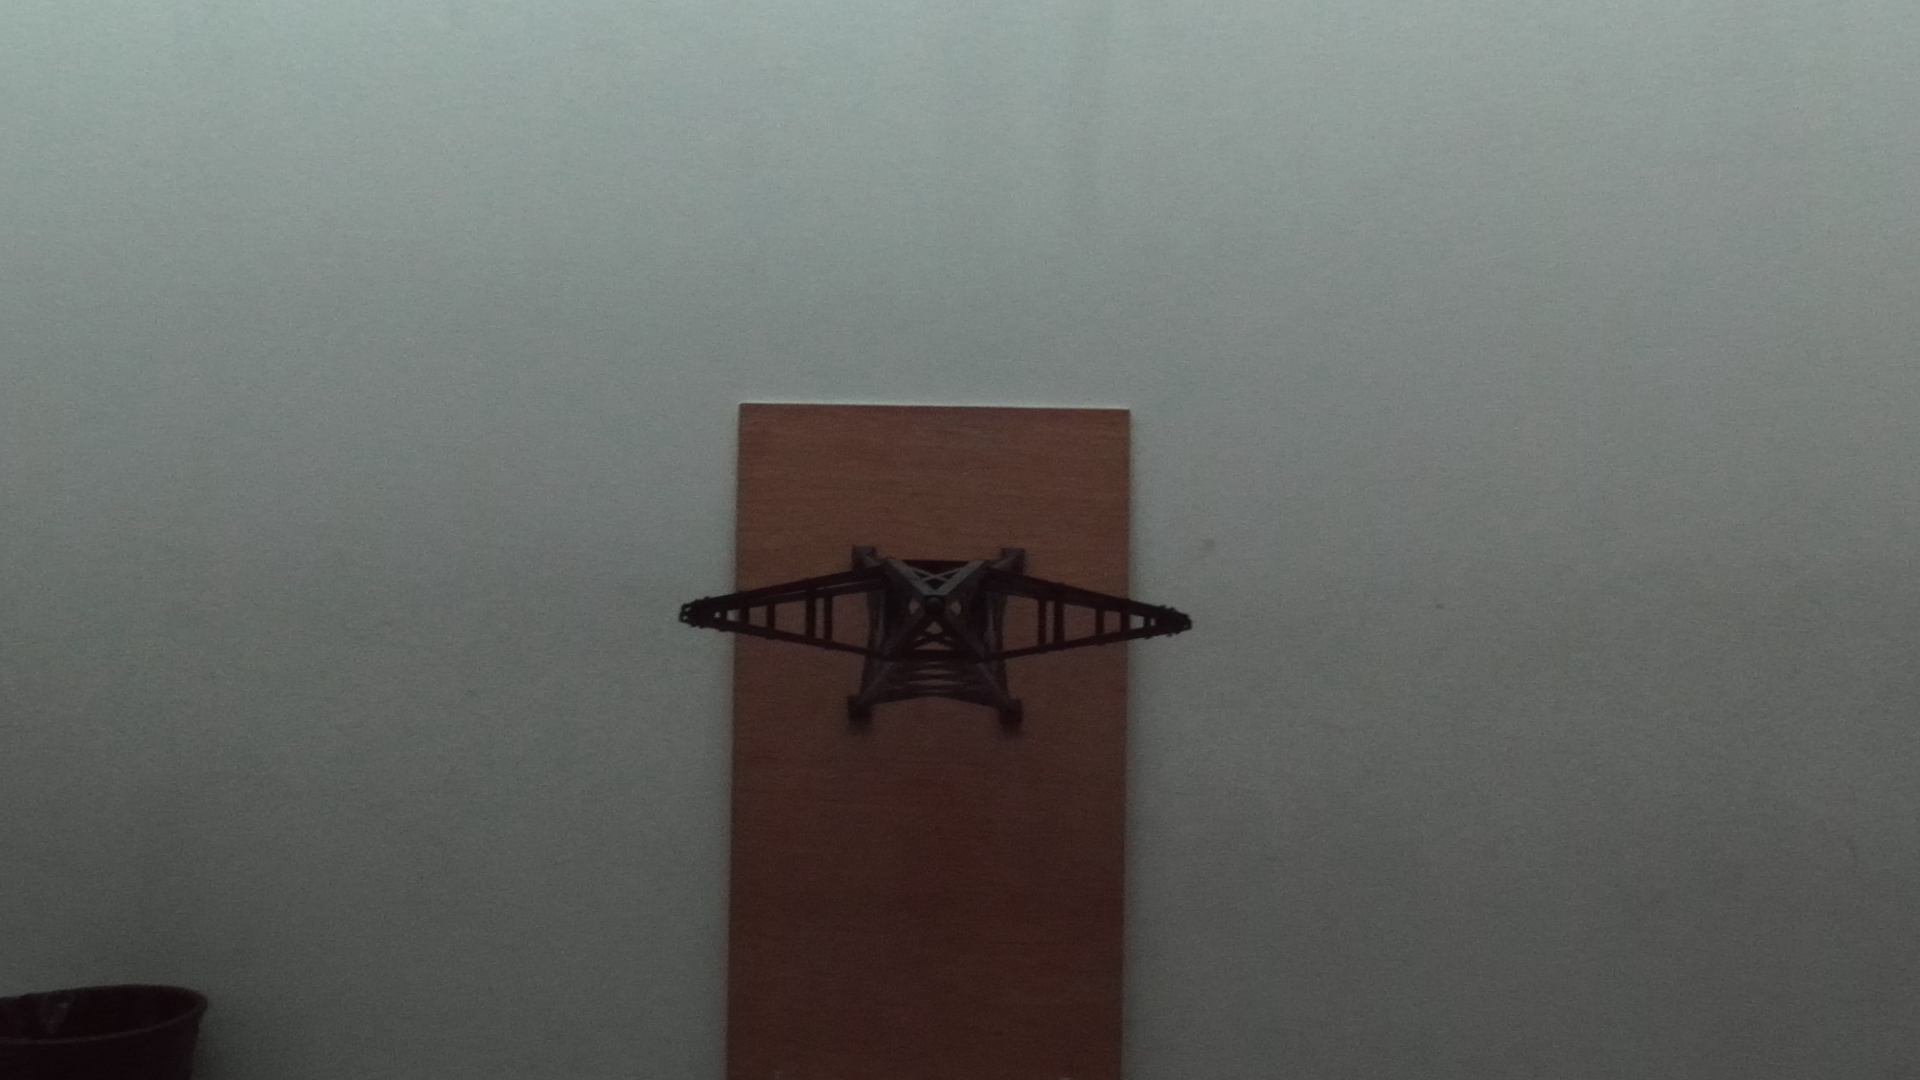pylon_phy: (673, 556, 1196, 667)
